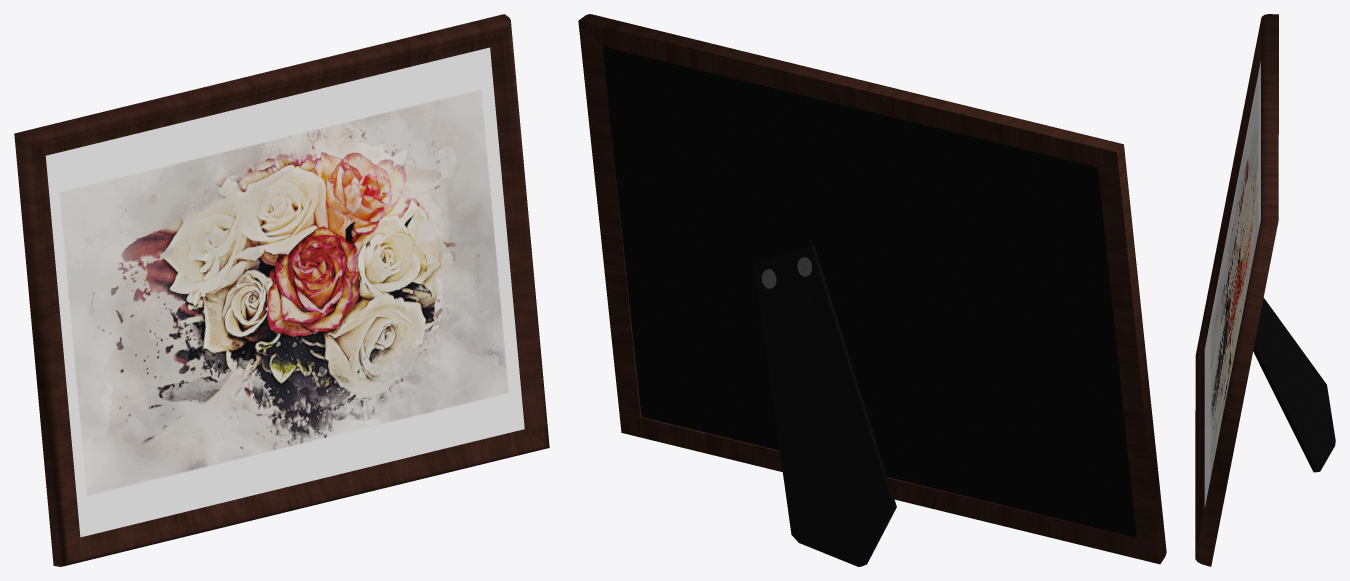
The model's file is PhotoFrame01_3A.FBX.
3 views of the same model, side by side, from view 1: azimuth 30°, elevation 25°; view 2: azimuth 150°, elevation 25°; view 3: azimuth 270°, elevation 25° (orthographic). The views are drawn at different scales.
Parts seen in each view (by area): view 1: PhotoFrame01_3A; view 2: PhotoFrame01_3A; view 3: PhotoFrame01_3A.
Boxes of the visible parts, <box> form: PhotoFrame01_3A: <box>14,14,549,566</box>; PhotoFrame01_3A: <box>578,14,1166,566</box>; PhotoFrame01_3A: <box>1195,14,1335,566</box>.
Bounding box in the file's own units: 0.3345 × 0.2639 × 0.0965.
